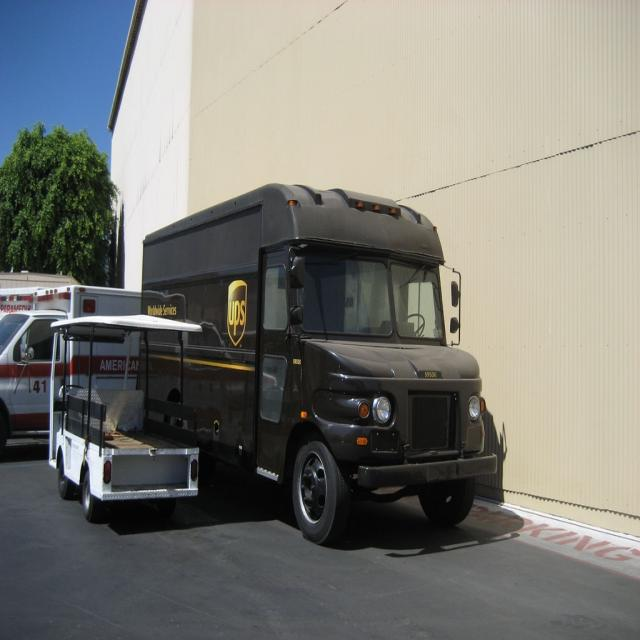ups: (226, 278, 249, 347)
